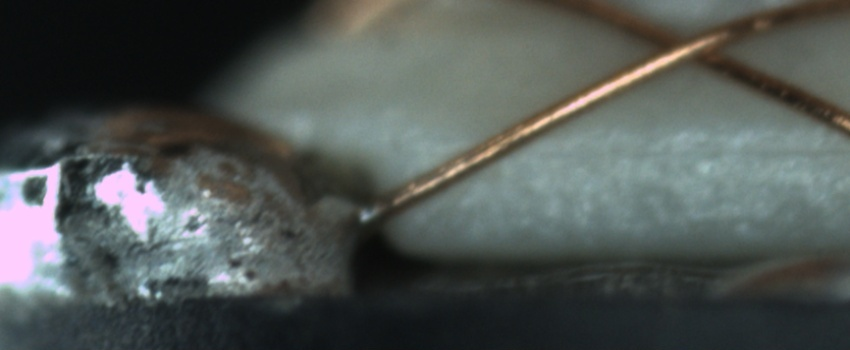CL: (632, 10, 747, 79)
DL: (503, 113, 850, 182)
